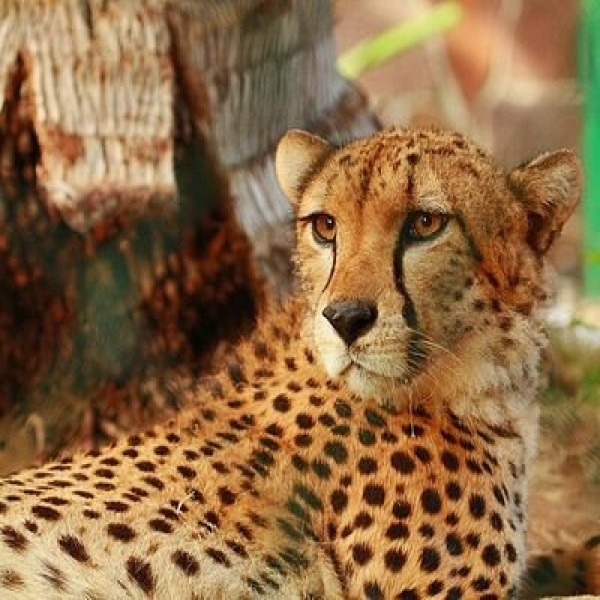Cheetah: (2, 125, 587, 599)
